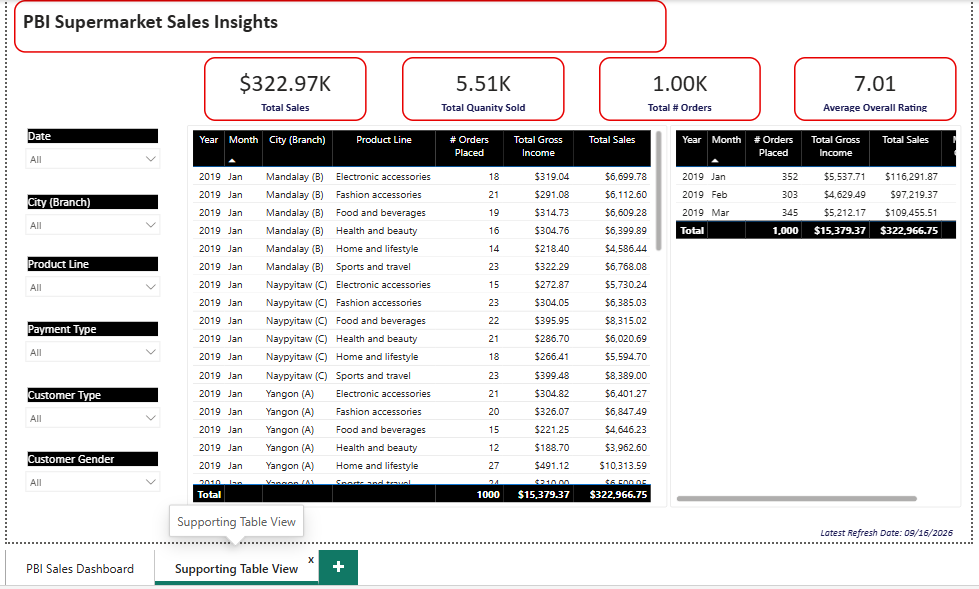

This screenshot's page, from the dashboard's own definition file:
{"tool":"powerbi","page":{"name":"Supporting Table View","canvas":[1280,720],"ordinal":1},"visuals":[{"type":"textbox","box":[9.9,0,867,70.3],"z":0},{"type":"slicer","fields":{"Values":["DIM_CityBranch.City","DIM_CityBranch.Branch"]},"box":[14.8,253.4,198.9,77],"z":1000},{"type":"slicer","fields":{"Values":["DIM_Date.Year","DIM_Date.Quarter","DIM_Date.Month Name","DIM_Date.Date"]},"box":[14.8,166.3,198.9,77.2],"z":2000},{"type":"slicer","fields":{"Values":["DIM_ProdLine.Product line"]},"box":[14.8,335.5,198.9,77.2],"z":3000},{"type":"slicer","fields":{"Values":["DIM_Payment.Payment"]},"box":[14.8,422.6,198.9,77],"z":4000},{"type":"slicer","fields":{"Values":["DIM_CustomerType.Customer type"]},"box":[14.8,509.7,198.9,77],"z":5000},{"type":"slicer","fields":{"Values":["DIM_Gender.Gender"]},"box":[14.8,595.8,198.9,77.2],"z":6000},{"type":"card","fields":{"Values":["Calcs.Total Sales"]},"box":[261.3,76.2,215.8,85.1],"z":7000},{"type":"card","fields":{"Values":["Calcs.Total Quanity Sold"]},"box":[524.2,76.2,216.4,85.3],"z":8000},{"type":"card","fields":{"Values":["Sum(Sales Data.# Orders)"]},"box":[786.3,76.2,214.9,85.3],"z":9000},{"type":"card","fields":{"Values":["Avg(Sales Data.Avg Rating)"]},"box":[1045.1,76.2,215.8,85.1],"z":10000},{"type":"card","fields":{"Values":["Calc.Refresh date"]},"box":[1067.9,694.8,200.9,24.7],"z":11000},{"type":"tableEx","fields":{"Values":["DIM_Date.Year","DIM_Date.Month Name","Sales Data.City (Branch)","Sales Data.Product line","Sum(Sales Data.# Orders)","Sum(Sales Data.Gross Income - Sum)","Sum(Sales Data.Total - Sum)"]},"box":[239,165.8,637.8,507.9],"z":12000},{"type":"tableEx","fields":{"Values":["DIM_Date.Year","DIM_Date.Month Name","Sum(Sales Data.# Orders)","Sum(Sales Data.Gross Income - Sum)","Sum(Sales Data.Total - Sum)","Calc.MOM % Change"]},"box":[881.3,165.8,386.9,507.9],"z":13000}]}

Visuals, with their boxes on the page's 1280x720 design canvas (x1, y1, x2, y2). These are canvas units, not pixel positions in the 979x589 screenshot, which may show the page scaled, cropped or inside an application window:
textbox: <box>10,0,877,70</box>
slicer - DIM_CityBranch.City x DIM_CityBranch.Branch: <box>15,253,214,330</box>
slicer - DIM_Date.Year x DIM_Date.Quarter: <box>15,166,214,244</box>
slicer - DIM_ProdLine.Product line: <box>15,336,214,413</box>
slicer - DIM_Payment.Payment: <box>15,423,214,500</box>
slicer - DIM_CustomerType.Customer type: <box>15,510,214,587</box>
slicer - DIM_Gender.Gender: <box>15,596,214,673</box>
card - Calcs.Total Sales: <box>261,76,477,161</box>
card - Calcs.Total Quanity Sold: <box>524,76,741,162</box>
card - Sum(Sales Data.# Orders): <box>786,76,1001,162</box>
card - Avg(Sales Data.Avg Rating): <box>1045,76,1261,161</box>
card - Calc.Refresh date: <box>1068,695,1269,720</box>
tableEx - DIM_Date.Year x DIM_Date.Month Name: <box>239,166,877,674</box>
tableEx - DIM_Date.Year x DIM_Date.Month Name: <box>881,166,1268,674</box>
